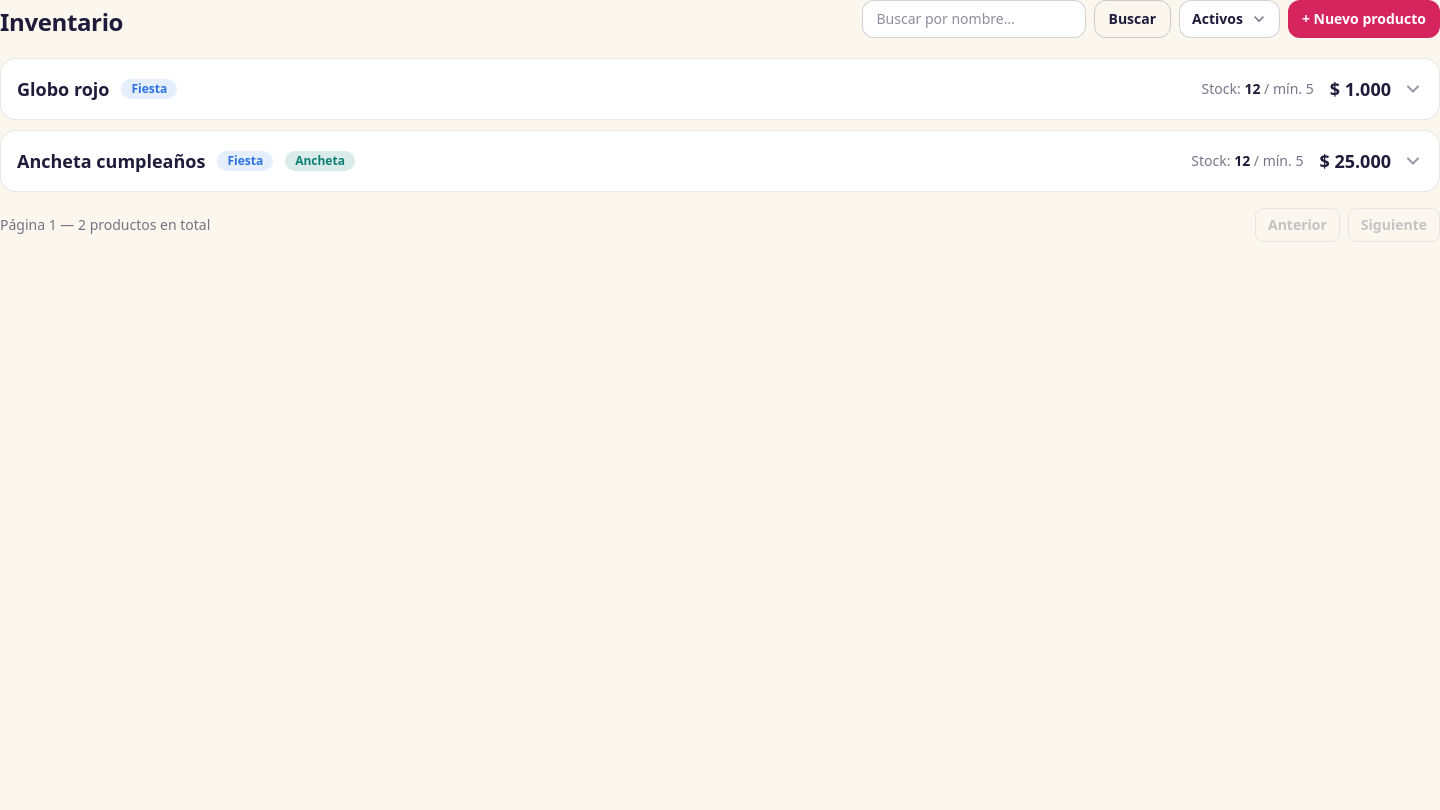
Test: Inventario — productos compuestos › avisa al desactivar un producto que es componente de una ancheta
Step 1. Click the button "Globo rojo Fiesta Stock: 12 / mín. 5 $ 1.000" → (63, 89), box [1, 59, 1439, 119]
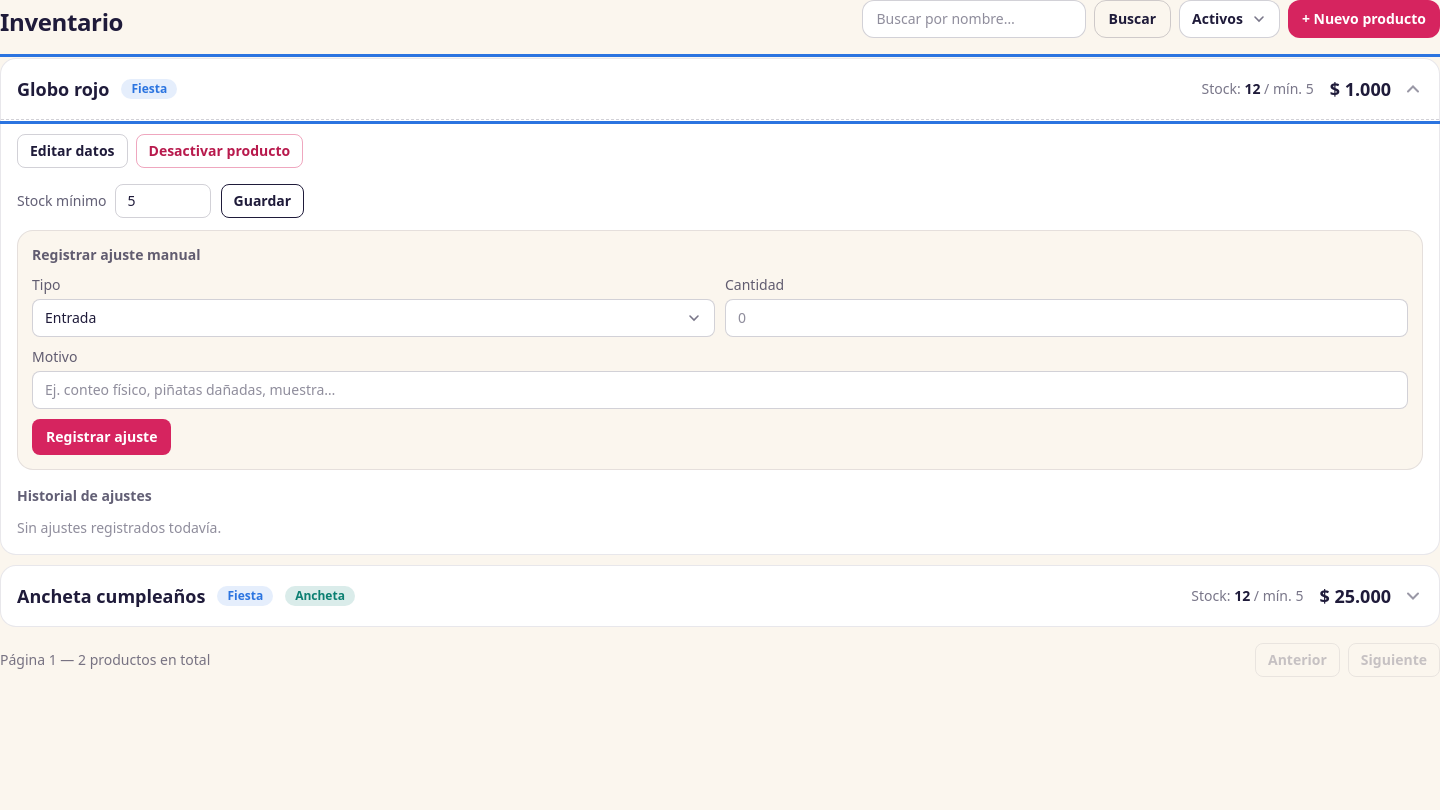
Step 2. Click the button "Desactivar producto" → (219, 151), box [136, 134, 303, 168]
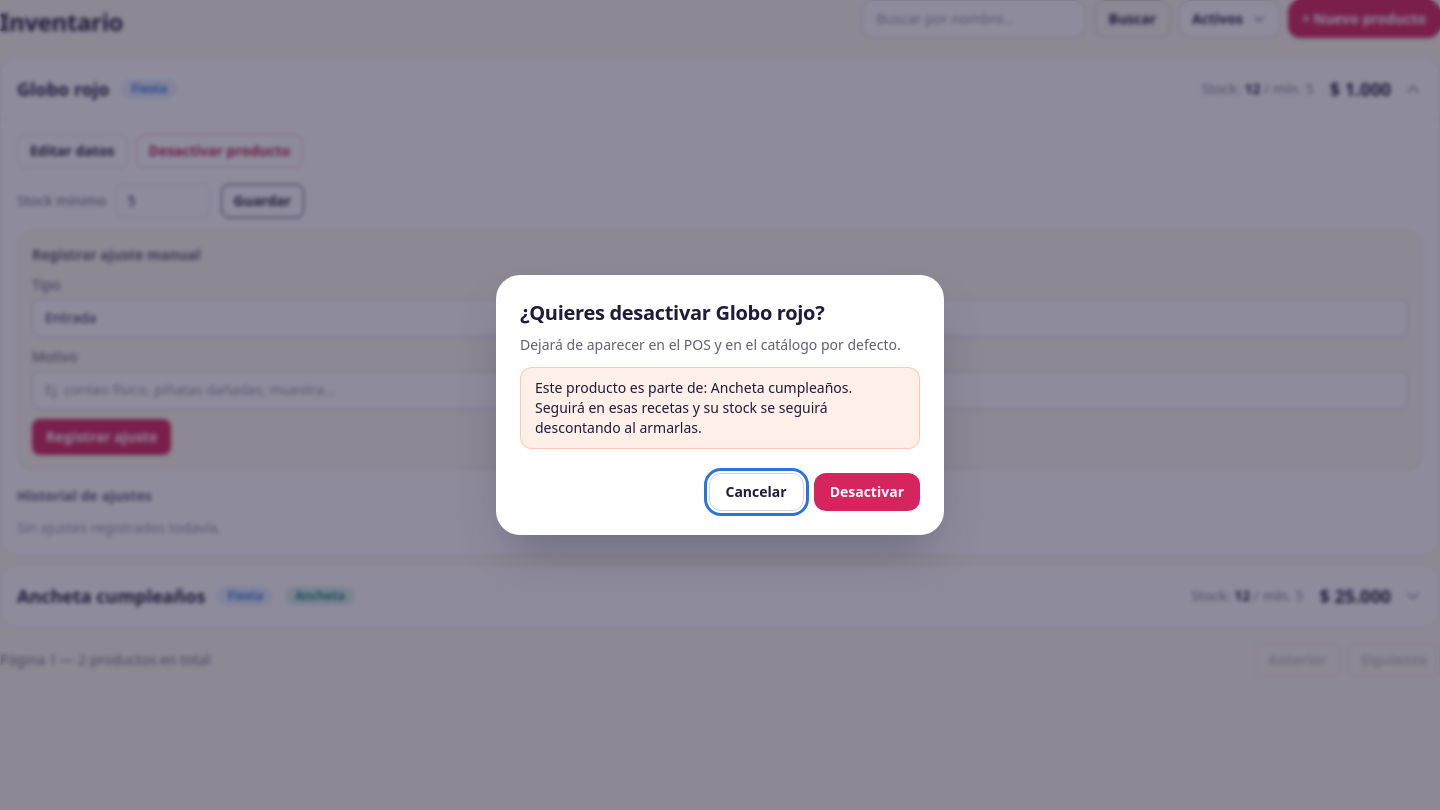
Expected: the text "Ancheta cumpleaños" is shown, [535, 378, 852, 437]
Expected: the text "se seguirá descontando" is shown, [535, 378, 852, 437]
Step 3. Click the button "Desactivar" → (867, 492), box [814, 473, 920, 511]
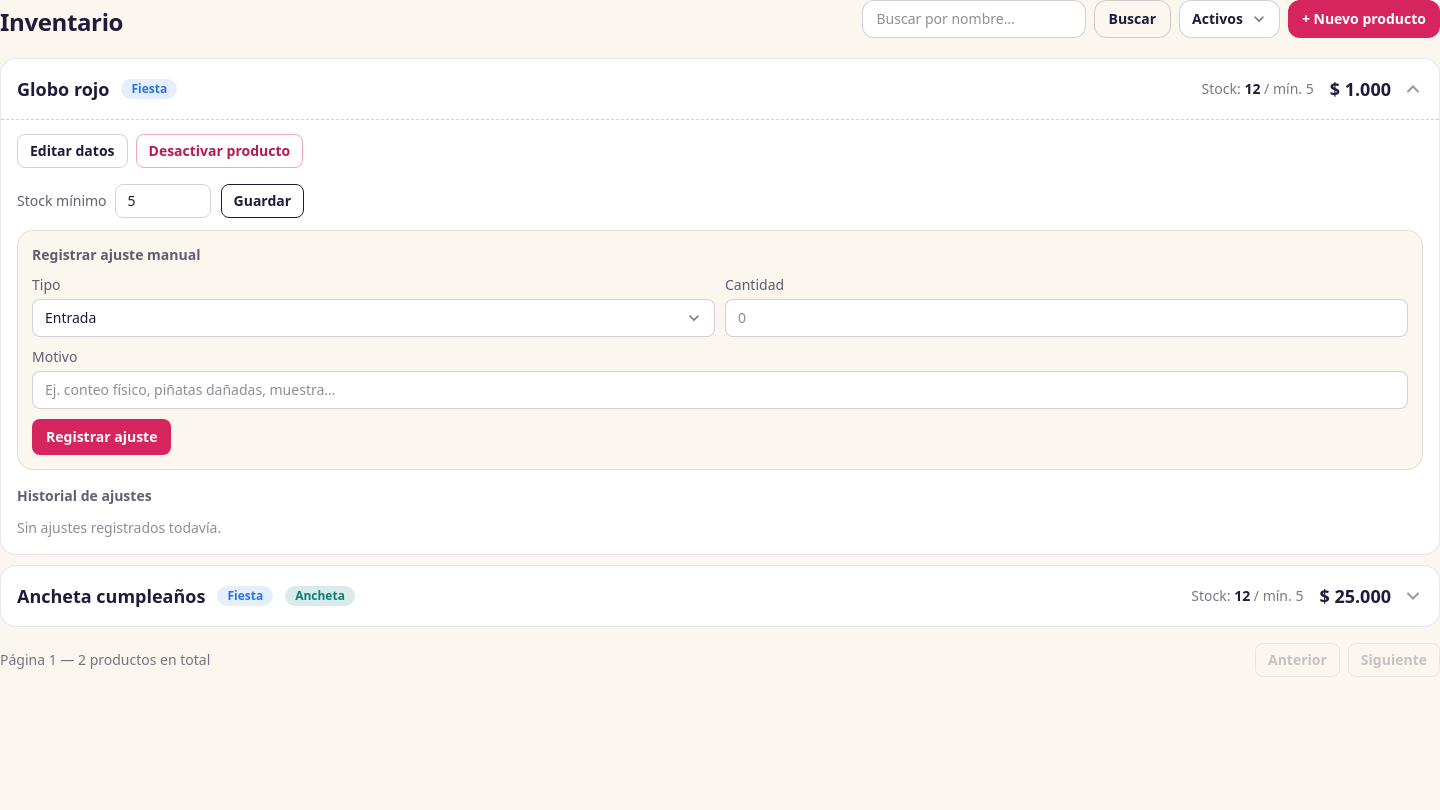
Expected: the dialog is gone
